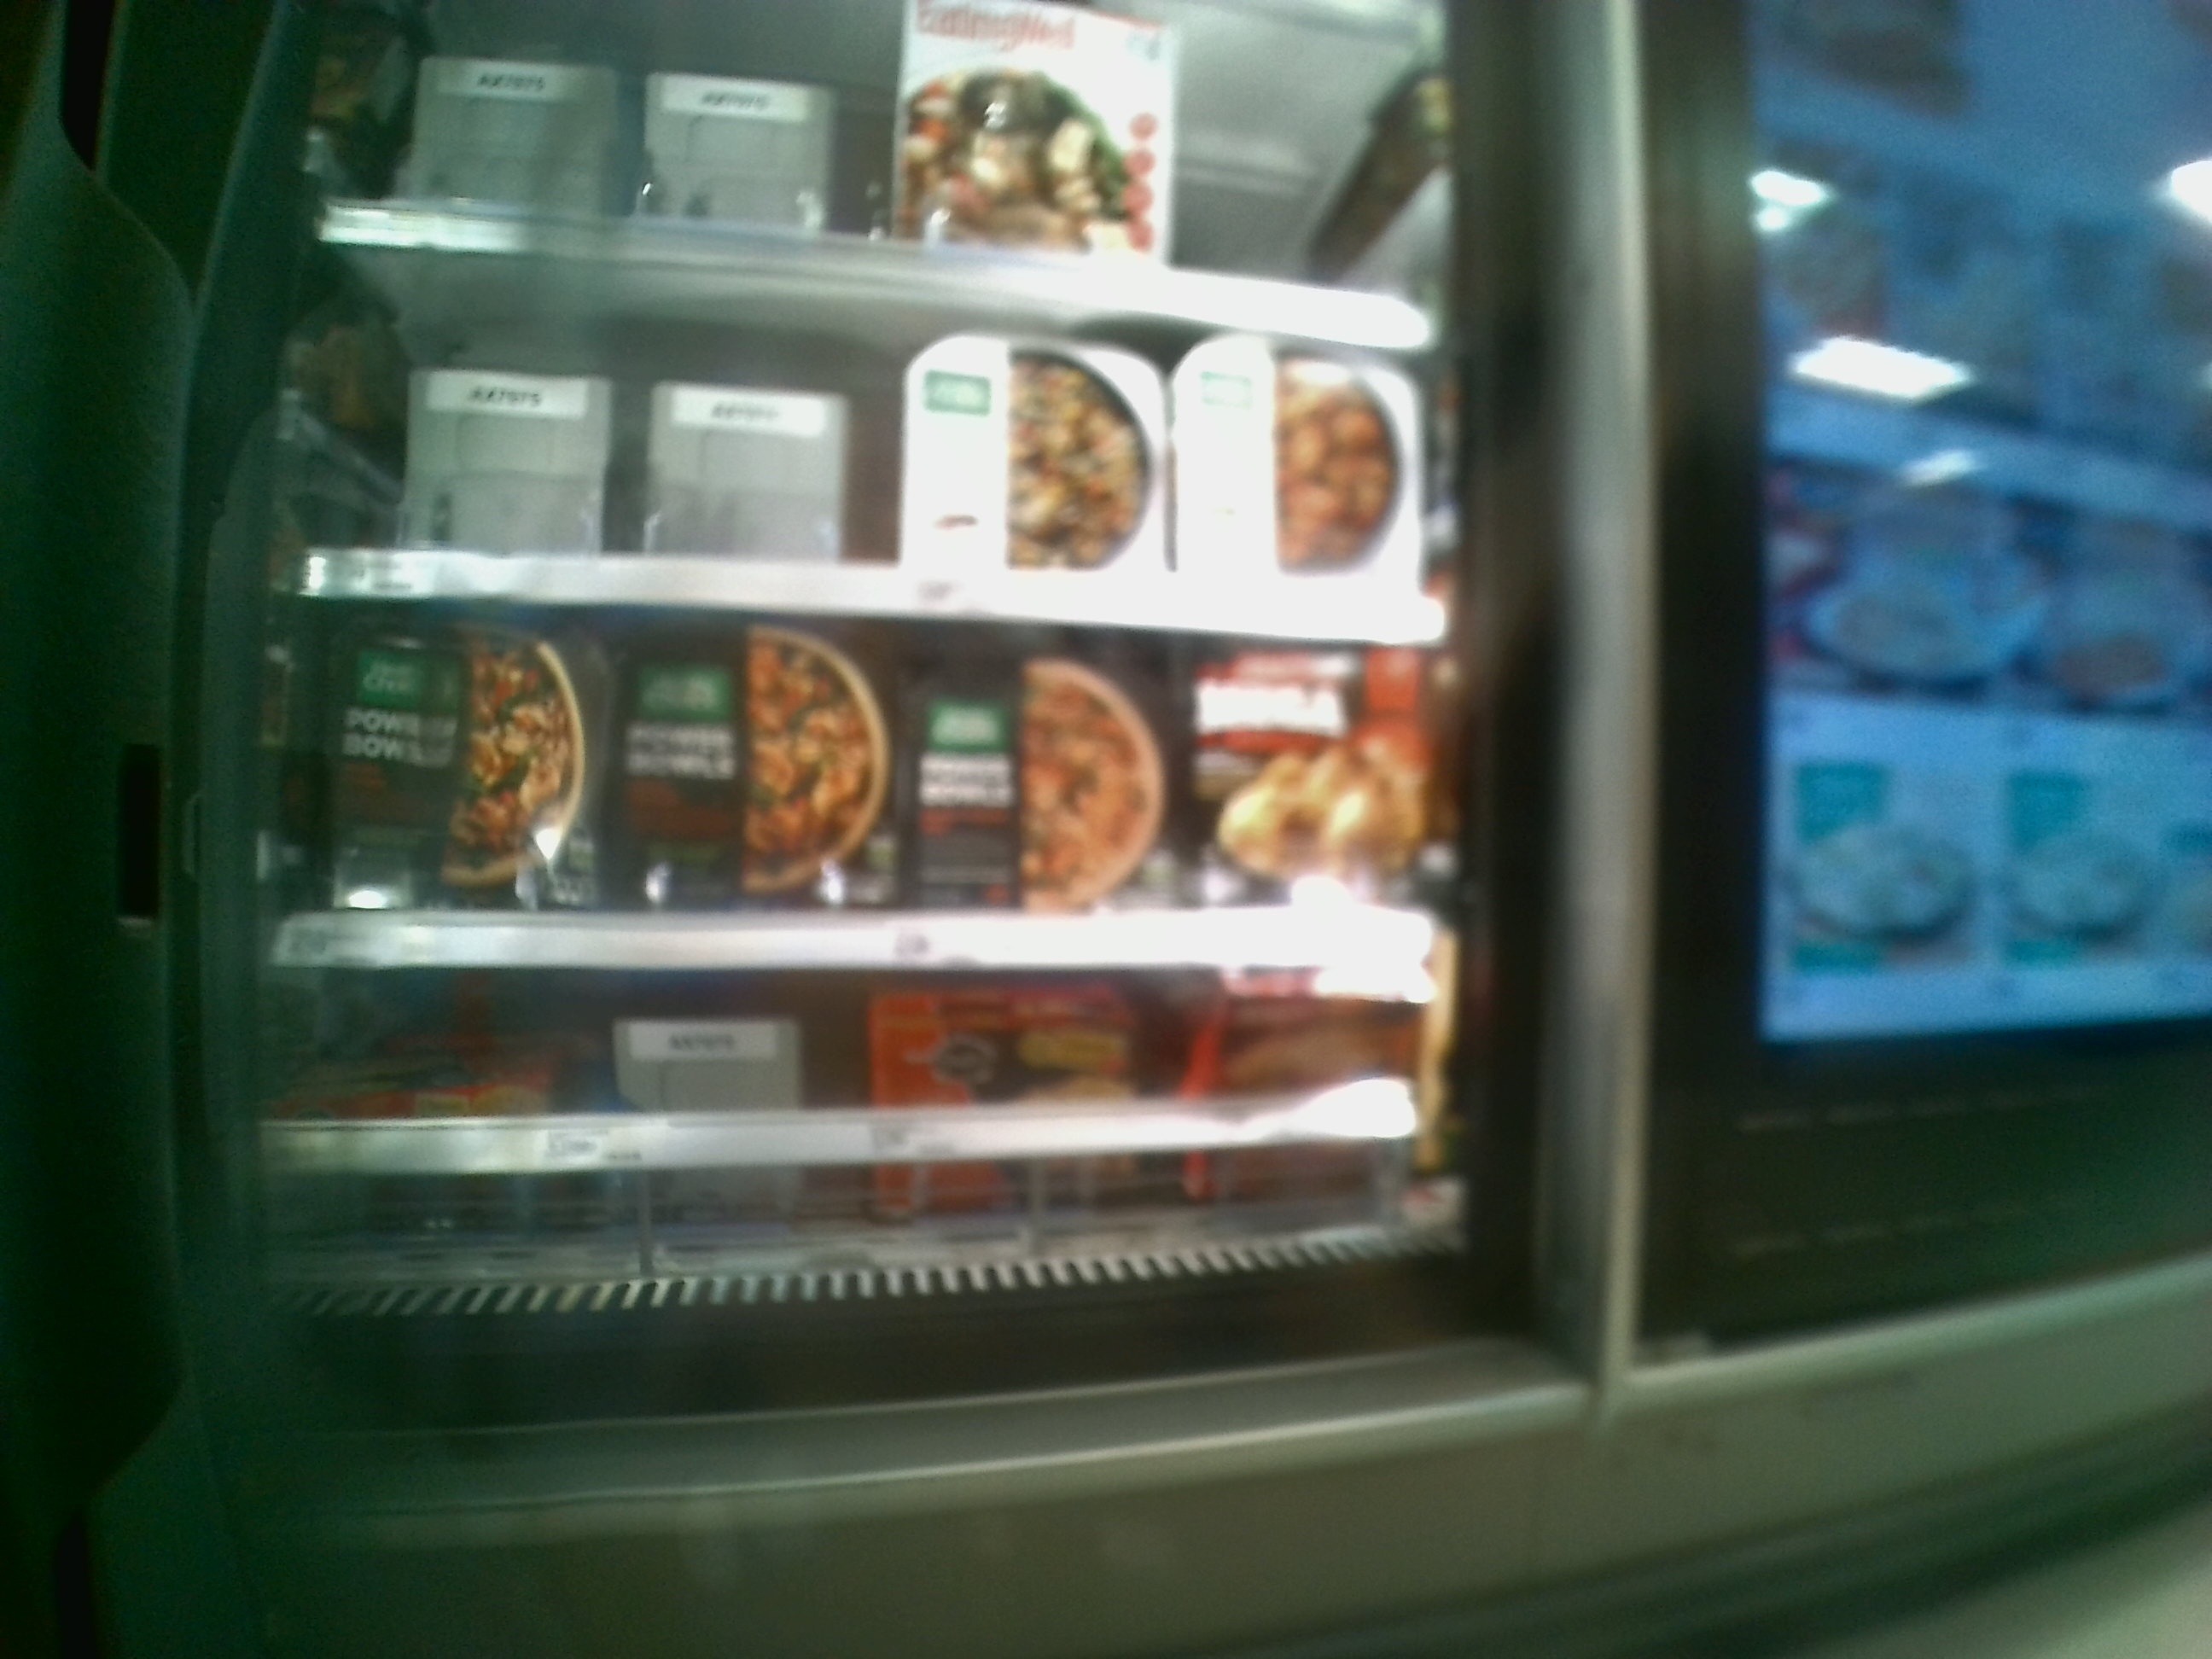shelf: (301, 239, 1451, 641), (280, 596, 1458, 974), (246, 969, 1479, 1309)
